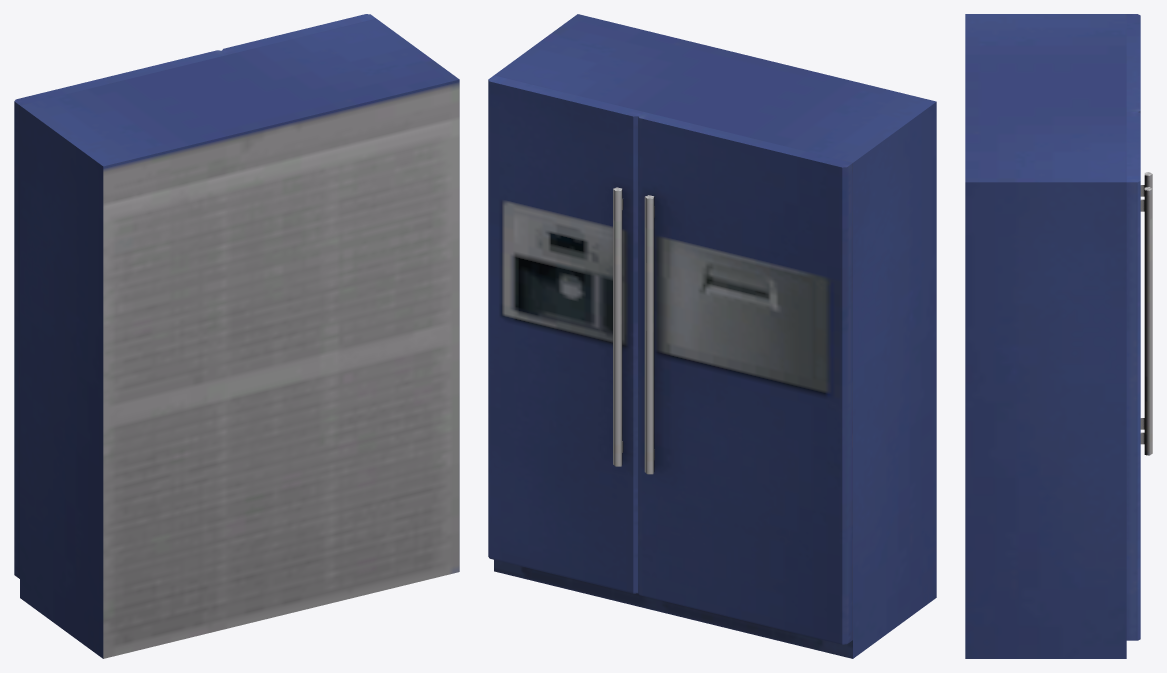
File: furni_0200425.FBX
3 views of the same model, side by side, from view 1: azimuth 30°, elevation 25°; view 2: azimuth 150°, elevation 25°; view 3: azimuth 270°, elevation 25° (orthographic). The views are drawn at different scales.
Visible parts, largest first — view 1: furni_0200425; view 2: furni_0200425; view 3: furni_0200425.
Boxes of the visible parts, x1,y1,x2,y2 form: furni_0200425: (14, 14, 459, 658); furni_0200425: (488, 14, 936, 658); furni_0200425: (965, 14, 1152, 658).
Bounding box in the file's own units: 136 × 180 × 64.02.
